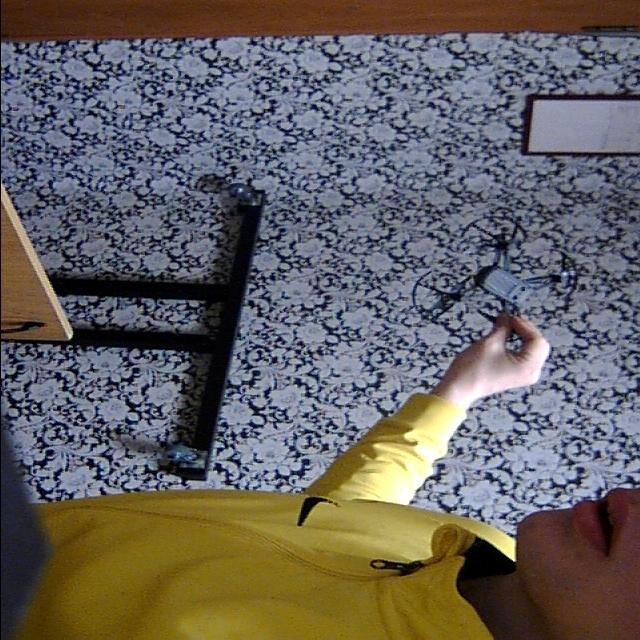drone: (406, 204, 604, 376)
